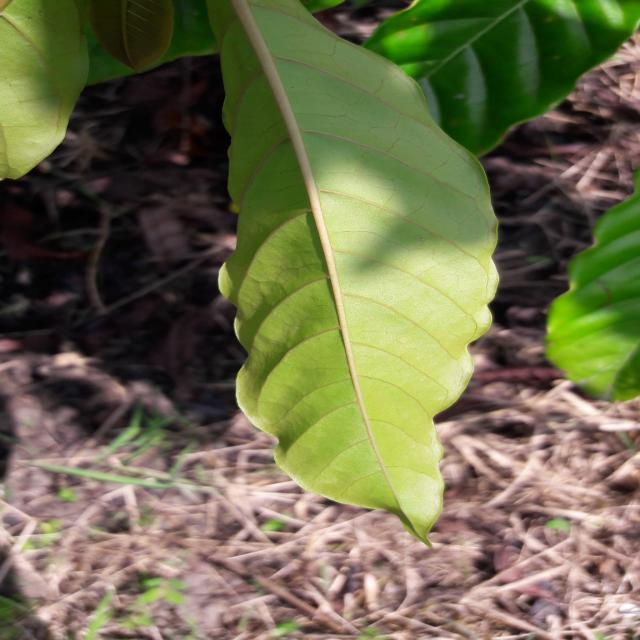Sanas: (205, 0, 499, 545)
